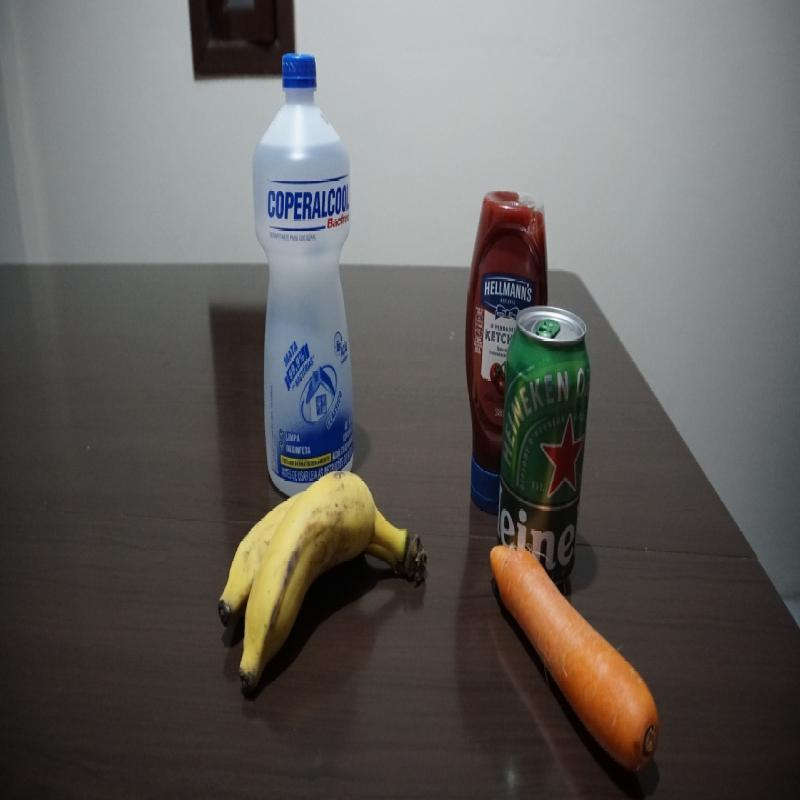Alcohol Bottle: (255, 50, 355, 466)
Banana: (219, 466, 430, 722)
Beer can: (501, 307, 590, 529)
Carrot: (484, 544, 669, 775)
Ketchup: (466, 175, 502, 515)
